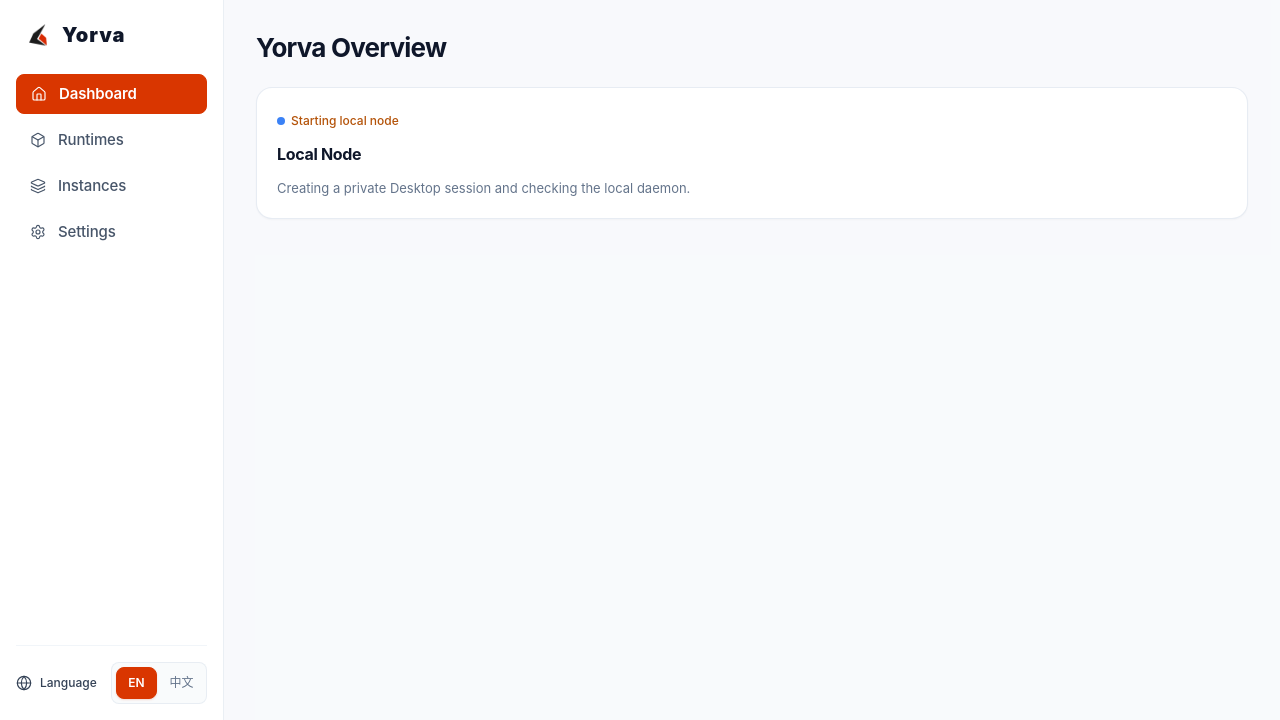
Test case: App instance operation recovery › reloads a running instance.create after Desktop restart
Click the button "Instances": coordinates (112, 186) x1=16 y1=166 x2=207 y2=206
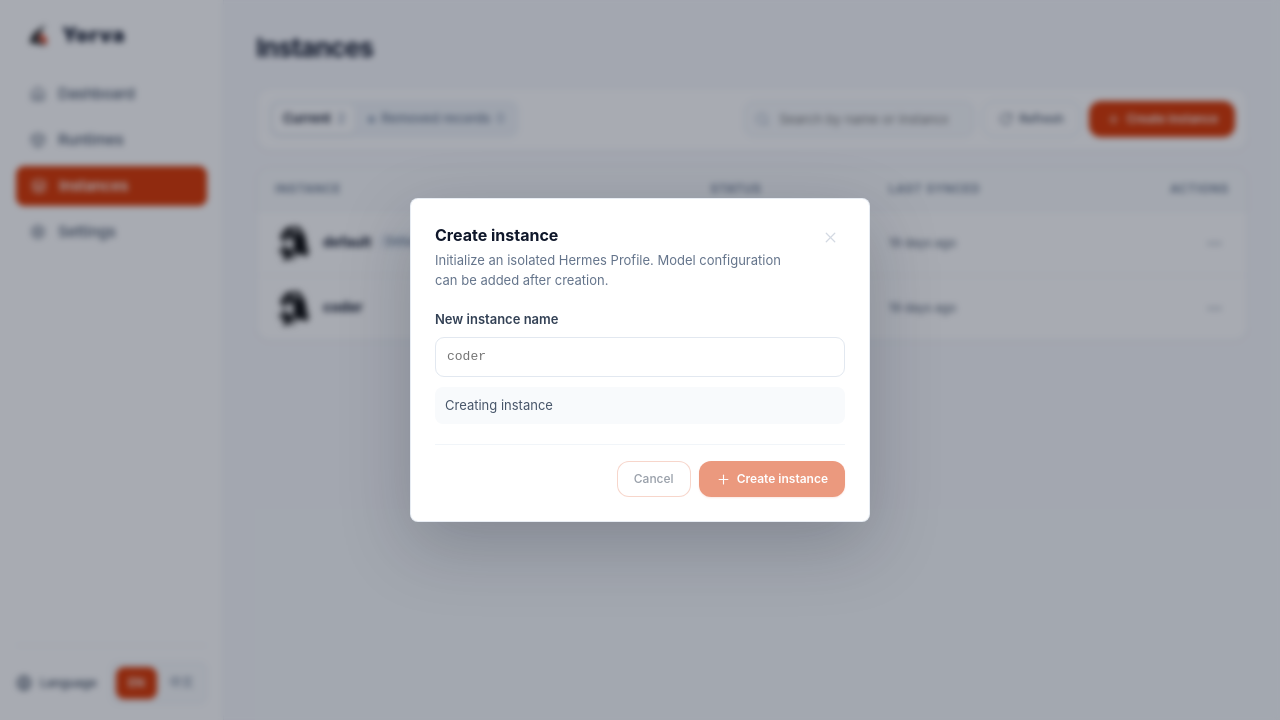
Expected: the text "Creating instance" is shown, x1=435 y1=387 x2=845 y2=424
